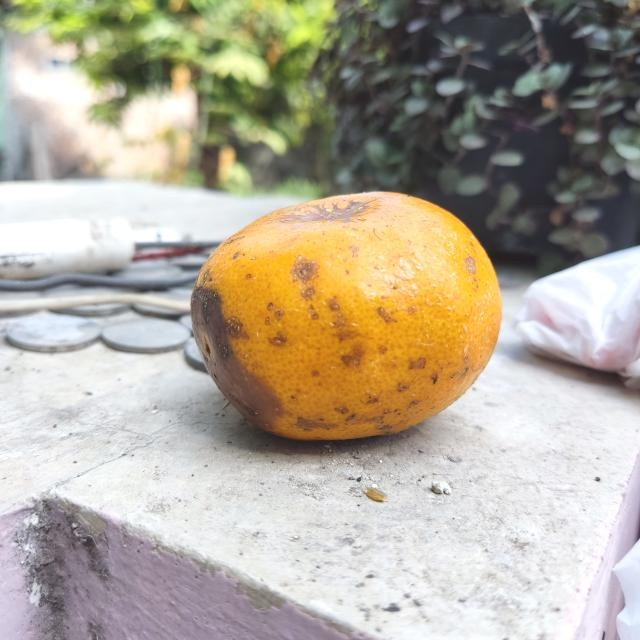agrume: (186, 189, 510, 451)
